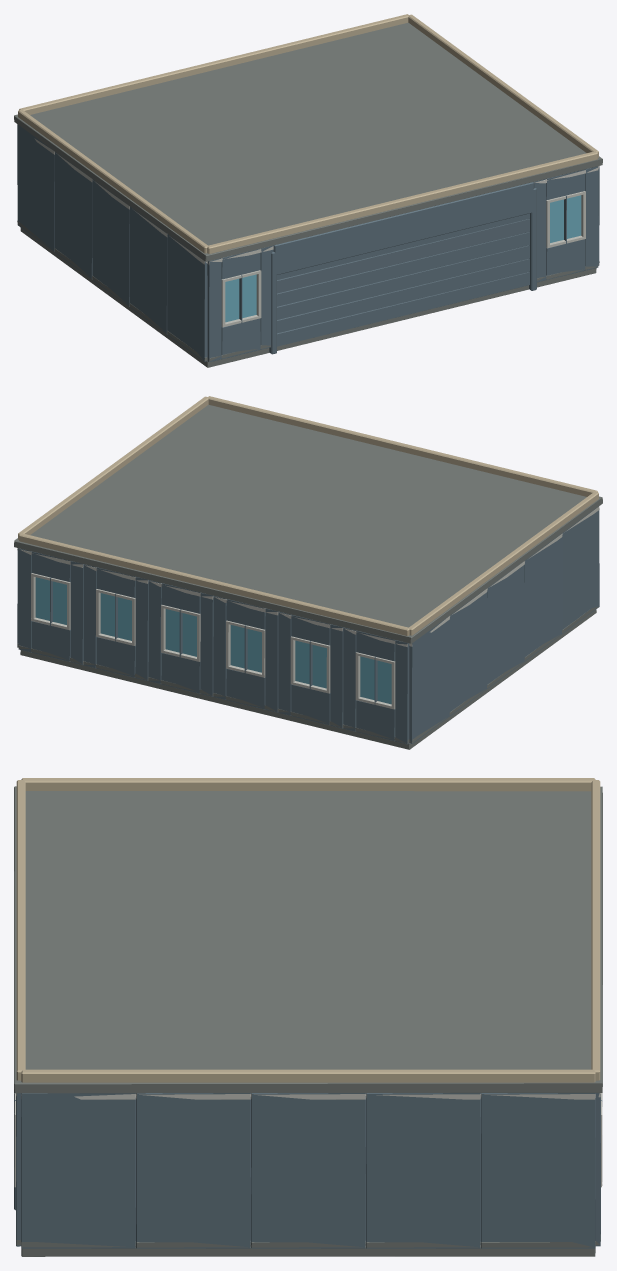
File: architecture-warehouse.lod1.glb
3 renders of one model, top to bottom at view 1: azimuth 30°, elevation 25°; view 2: azimuth 150°, elevation 25°; view 3: azimuth 270°, elevation 25°, orthographic. The views are drawn at different scales.
Parts seen in each view (by area): view 1: architecture-warehouse__body, architecture-warehouse__loading_door; view 2: architecture-warehouse__body; view 3: architecture-warehouse__body.
Boxes of the visible parts, x1,y1,x2,y2 form: architecture-warehouse__body: (14, 14, 602, 367); architecture-warehouse__loading_door: (277, 213, 529, 346); architecture-warehouse__body: (14, 396, 602, 749); architecture-warehouse__body: (14, 778, 602, 1256).
Size of the model in its own units: 12.25 by 3.58 by 10.25.
